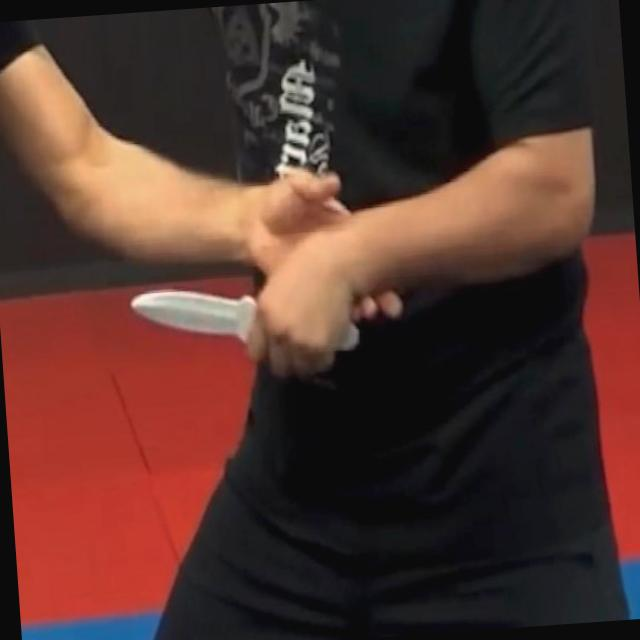suspicion: (102, 0, 614, 393), (127, 282, 248, 356), (336, 320, 359, 352)
